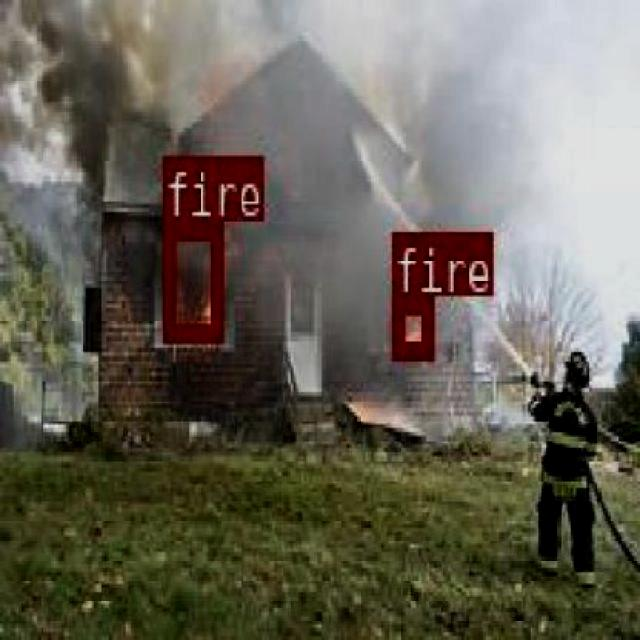fire: (160, 218, 220, 340), (390, 292, 430, 356)
